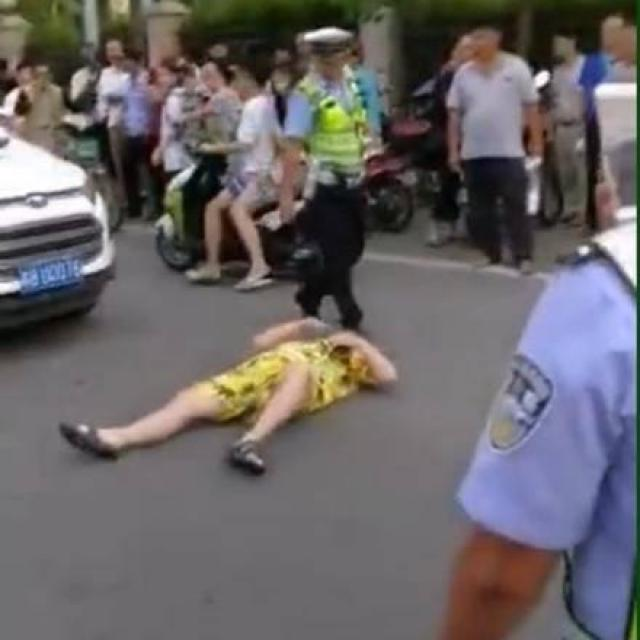10-: (0, 1, 633, 638)
down: (51, 308, 404, 480)
